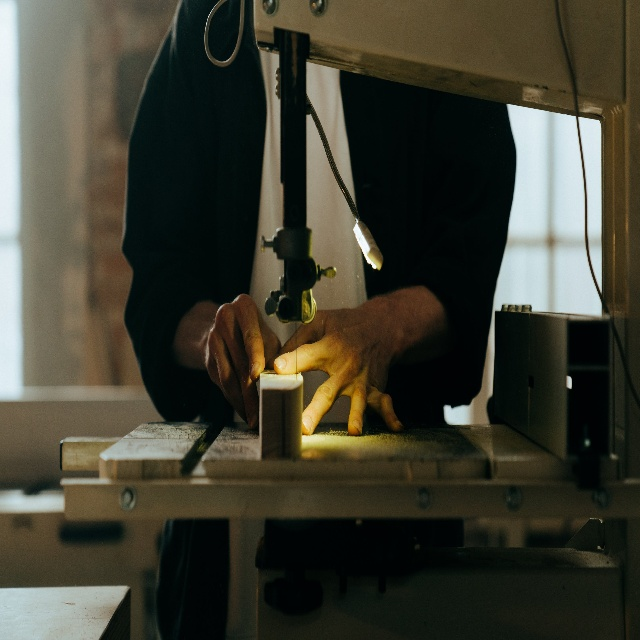Sin_guantes: (275, 313, 401, 436), (205, 293, 281, 430)
